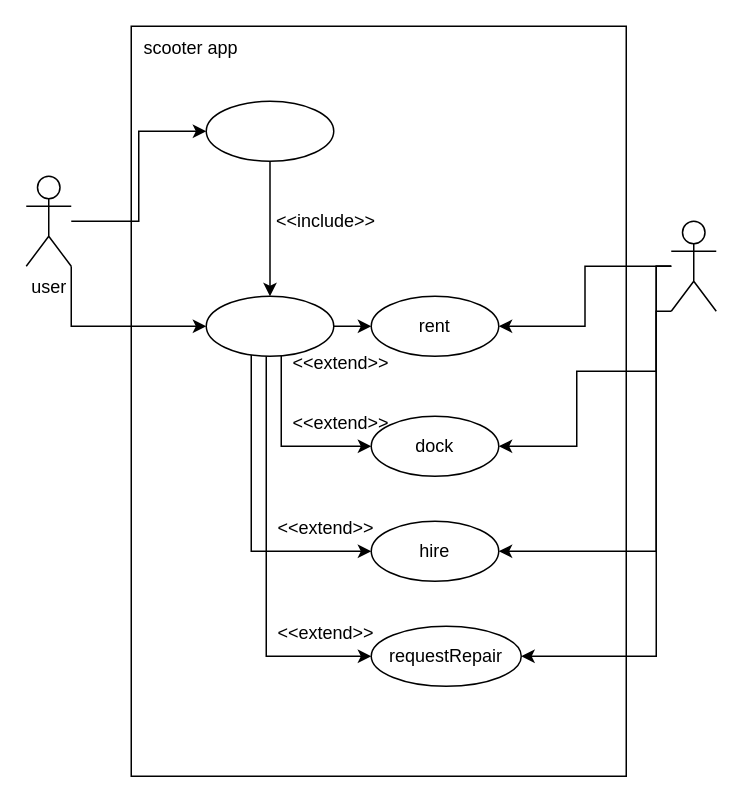
This 749x803 diagram has some shape labels left out. Each missing label, with the centre of its shape:
"login" goes at pixel 269 325.
"register" goes at pixel 269 130.
"scooter" goes at pixel 693 265.
